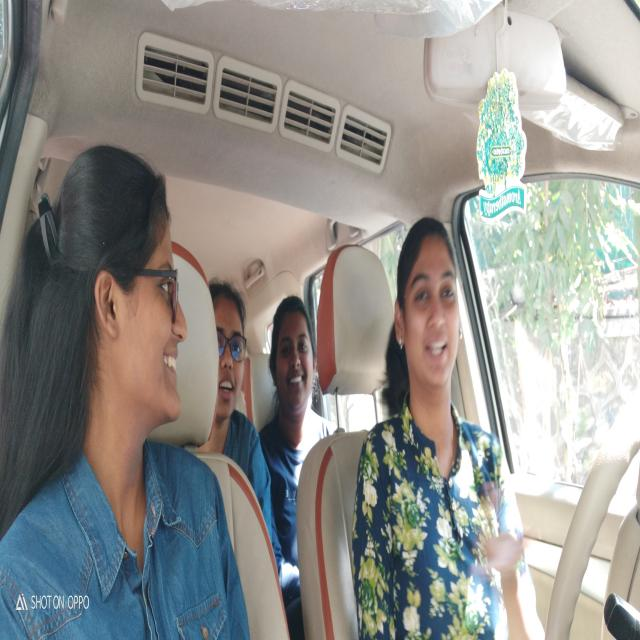person: (91, 149, 193, 470), (391, 213, 467, 420), (269, 290, 320, 430), (212, 272, 248, 435)
